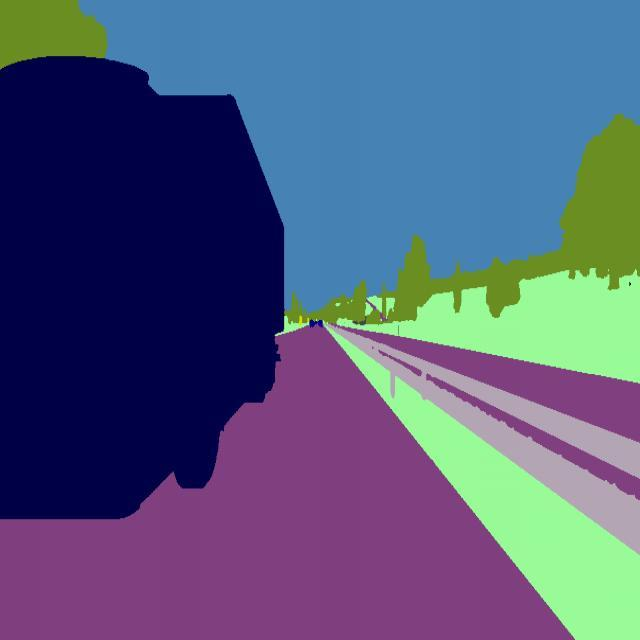safe: (316, 313, 326, 333), (308, 315, 316, 332)
unsafe: (0, 52, 287, 531)
